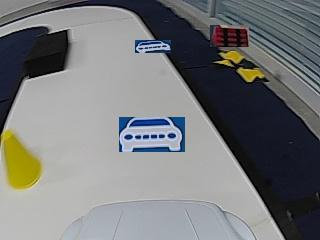block: (25, 29, 67, 77)
cone: (2, 130, 43, 189)
